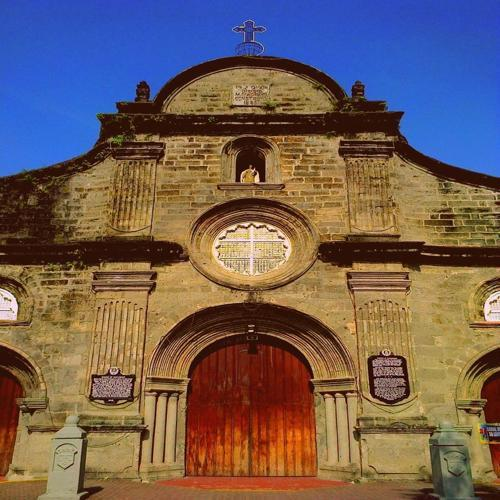Barasoain Church: (1, 16, 500, 498)
